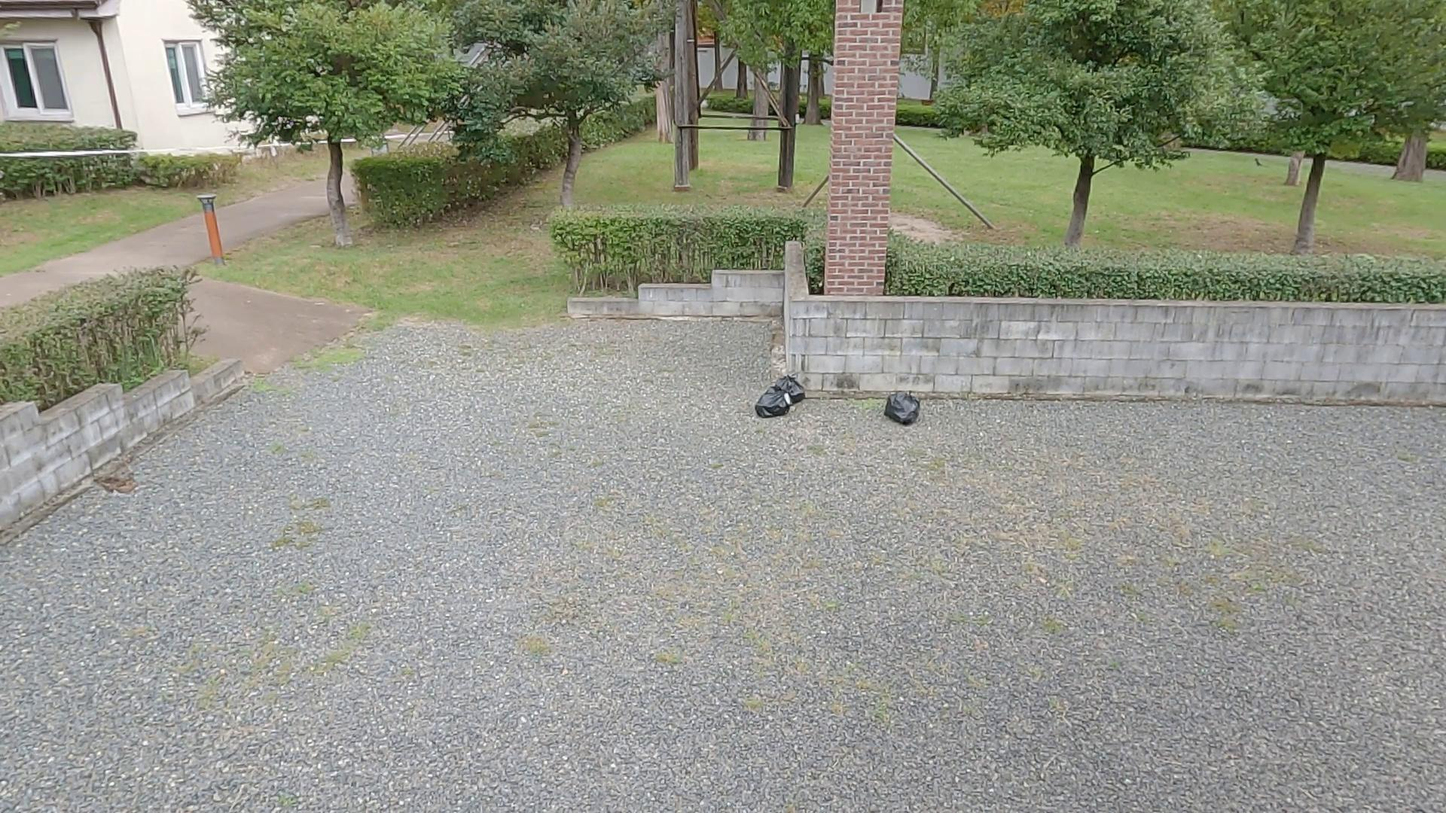trash: (880, 385, 923, 427), (767, 375, 808, 411), (753, 386, 792, 419)
